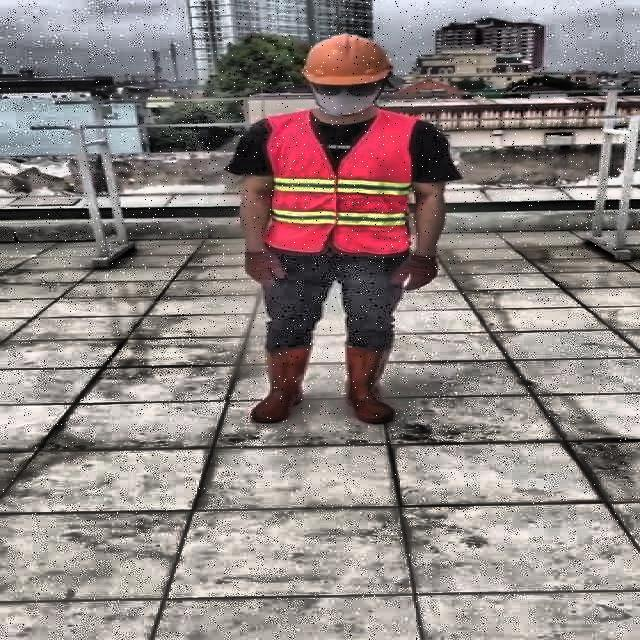safety_helmet: (294, 29, 392, 88)
safety_jacket: (266, 114, 414, 253)
